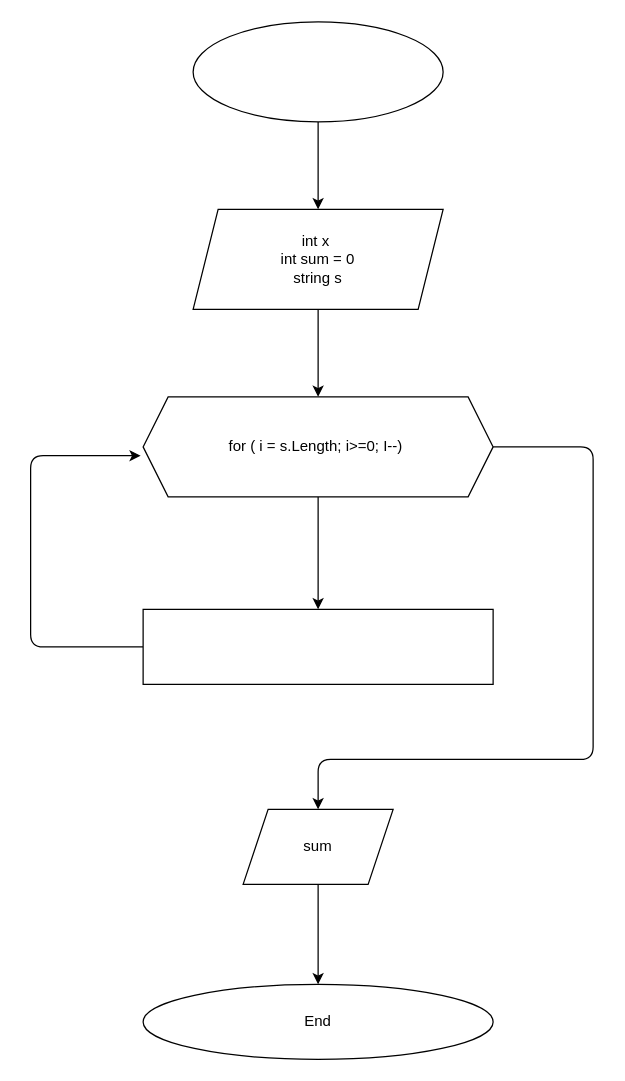
Image size: 625x1081. Some labels were removed from this diagram. Each missing label, with the centre of its shape:
"Start" goes at point (317, 71).
"sum x" goes at point (317, 646).
